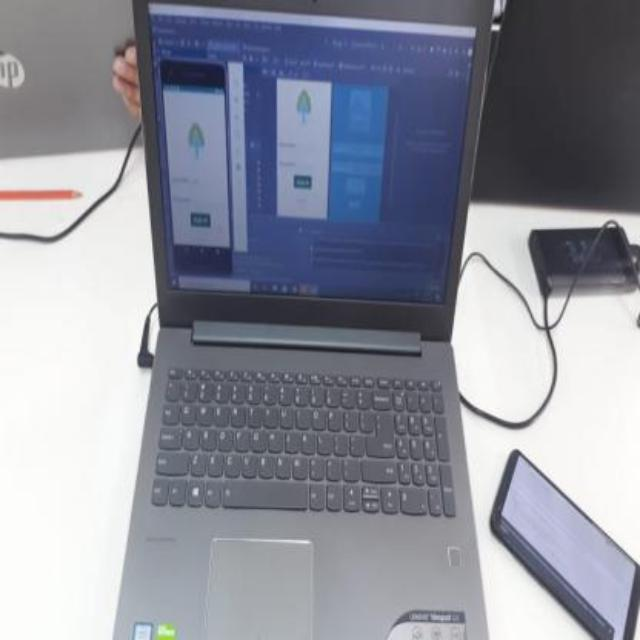Laptop: (134, 2, 488, 640)
